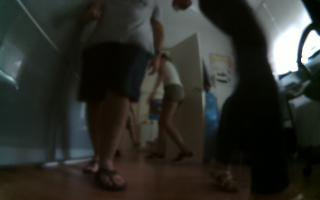person: (196, 1, 305, 200), (80, 1, 164, 191), (144, 47, 197, 171), (121, 105, 143, 165)
